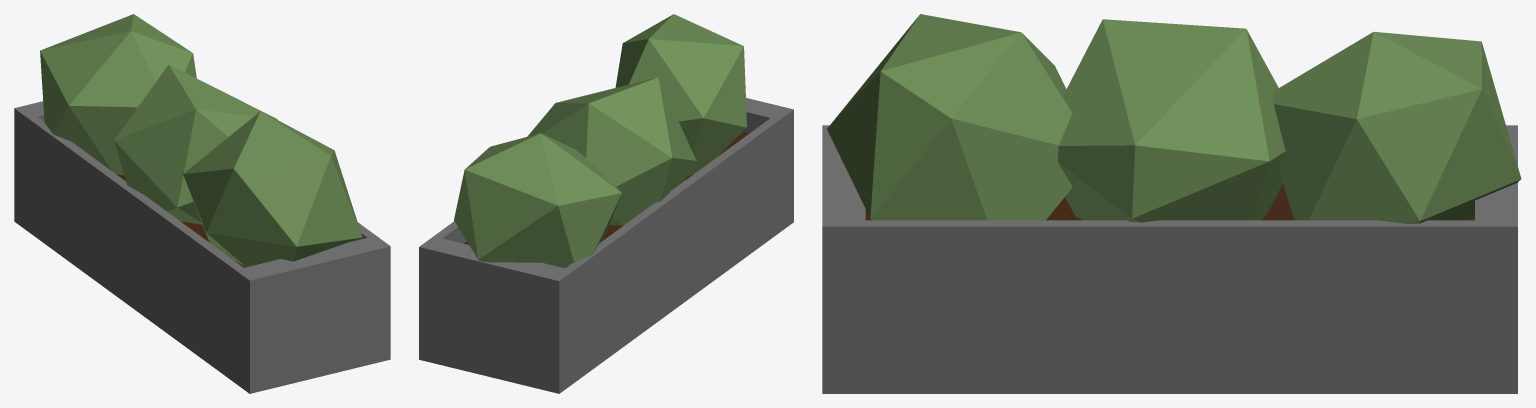
The model's file is VasePlant.fbx.
3 views of the same model, side by side, from view 1: azimuth 30°, elevation 25°; view 2: azimuth 150°, elevation 25°; view 3: azimuth 270°, elevation 25° (orthographic). The views are drawn at different scales.
Parts seen in each view (by area): view 1: Cube, Icosphere.002, Icosphere, Icosphere.001; view 2: Cube, Icosphere, Icosphere.001, Icosphere.002; view 3: Cube, Icosphere.001, Icosphere.002, Icosphere.
Part boxes in pixels (box(x1,y1,x2,y2)): Cube: box(14, 101, 390, 393); Icosphere.002: box(183, 111, 362, 267); Icosphere: box(40, 14, 196, 174); Icosphere.001: box(114, 64, 277, 224); Cube: box(419, 98, 793, 393); Icosphere: box(454, 133, 621, 268); Icosphere.001: box(527, 77, 696, 225); Icosphere.002: box(615, 14, 746, 175); Cube: box(822, 125, 1517, 393); Icosphere.001: box(1058, 19, 1285, 222); Icosphere.002: box(827, 14, 1072, 220); Icosphere: box(1273, 31, 1521, 223).
Bounding box in the file's own units: 42.96 × 59.6 × 119.
